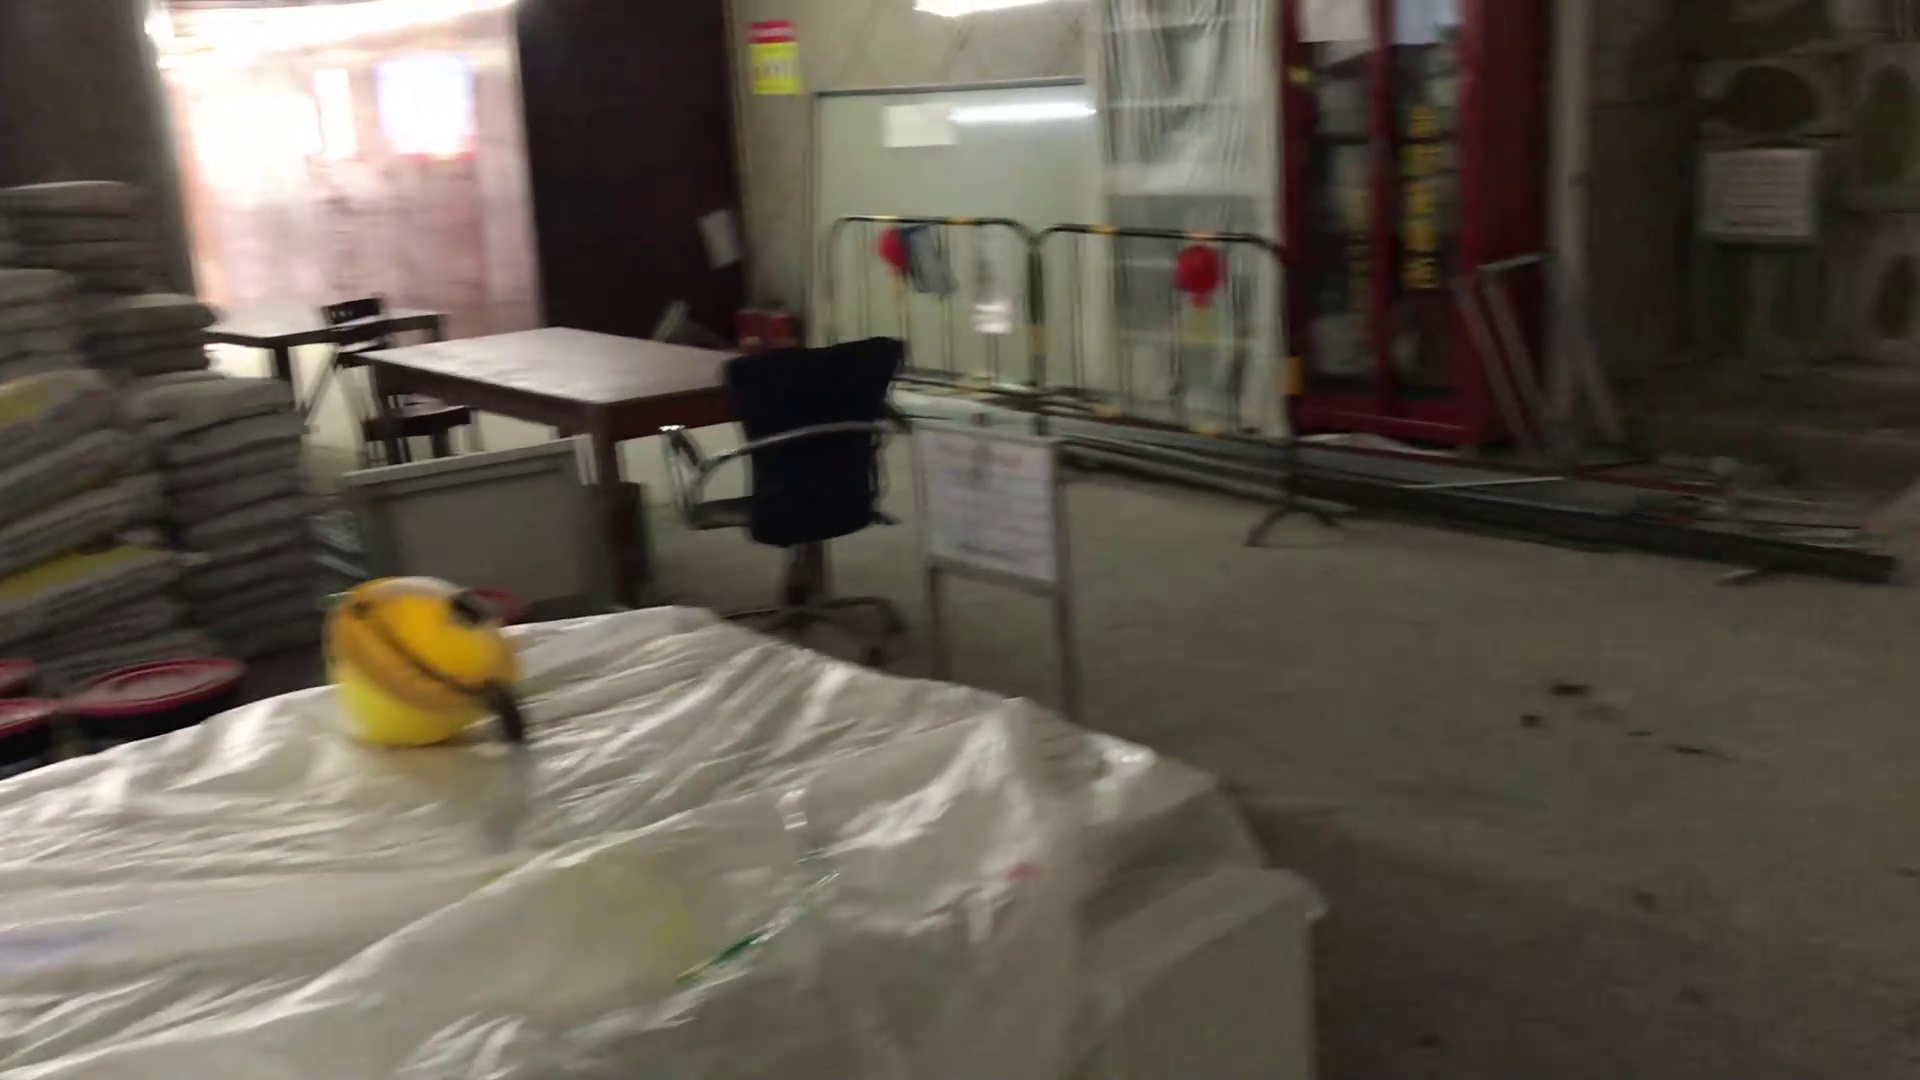fence: (818, 207, 1338, 554)
helmet: (310, 558, 553, 753)
slogan: (737, 18, 808, 98)
